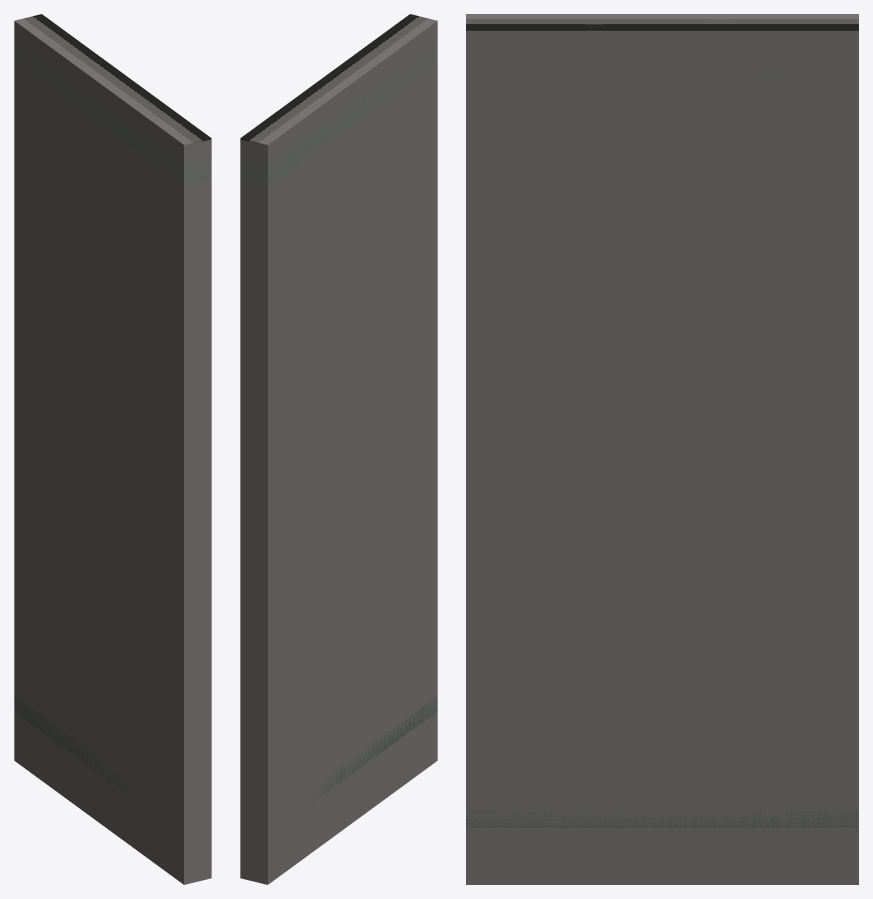
Rendered from CMU3DInteriorVehiclePizzaVanFrontLeft2.glb.
3 renders of one model, left to right at view 1: azimuth 30°, elevation 25°; view 2: azimuth 150°, elevation 25°; view 3: azimuth 270°, elevation 25°, orthographic. The views are drawn at different scales.
Visible parts, largest first — view 1: cabin bulkhead, cabin bulkhead source finish, upper armor trim, lower armor trim; view 2: cabin bulkhead, cabin bulkhead source finish, upper armor trim, lower armor trim; view 3: cabin bulkhead, cabin bulkhead source finish, lower armor trim.
Boxes of the visible parts, x1=… form: cabin bulkhead: x1=14, y1=22, x2=211, y2=884; cabin bulkhead source finish: x1=14, y1=14, x2=211, y2=145; upper armor trim: x1=14, y1=41, x2=211, y2=185; lower armor trim: x1=14, y1=696, x2=140, y2=802; cabin bulkhead: x1=240, y1=22, x2=437, y2=884; cabin bulkhead source finish: x1=240, y1=14, x2=437, y2=145; upper armor trim: x1=240, y1=41, x2=437, y2=185; lower armor trim: x1=300, y1=696, x2=437, y2=810; cabin bulkhead: x1=466, y1=30, x2=858, y2=884; cabin bulkhead source finish: x1=466, y1=14, x2=858, y2=30; lower armor trim: x1=466, y1=810, x2=858, y2=827.
Bounding box in the file's own units: 0.0938 × 2.4 × 1.
Materials: 4 (1 with a texture image).
